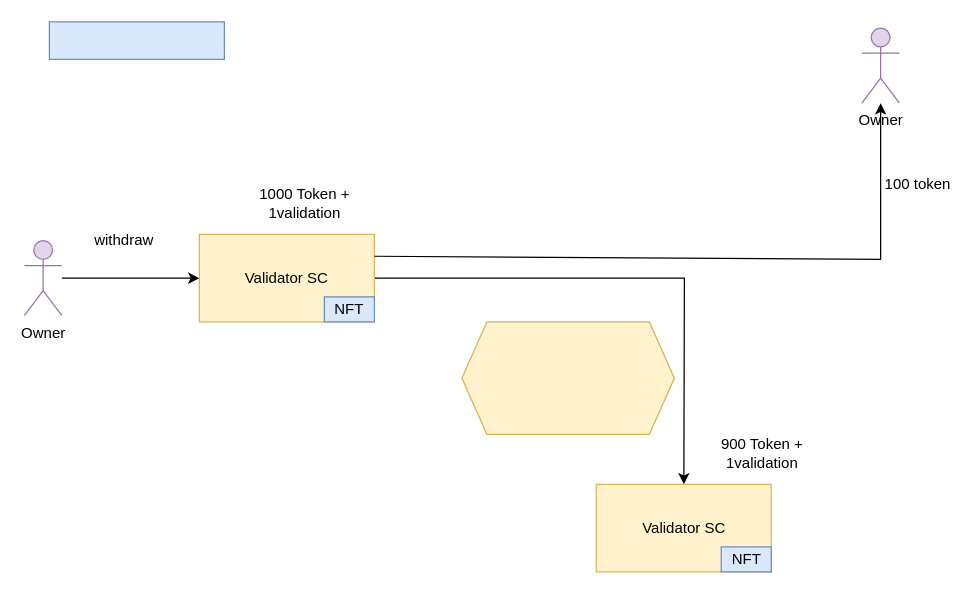
This 978x594 diagram has some shape labels left out. Here are the shapes that lost their labels. From the top down, the box of each, then its label:
(48, 21, 224, 59): Withdraw process
(461, 321, 674, 434): fractionAC: fnftAC emittedFractions: 1000 nftAc: nftAc remainedFractions:1000
